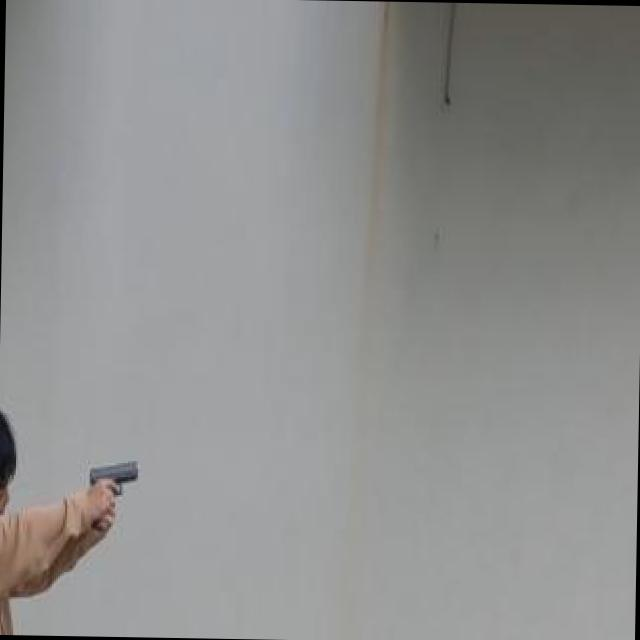Guns: (81, 450, 149, 531)
